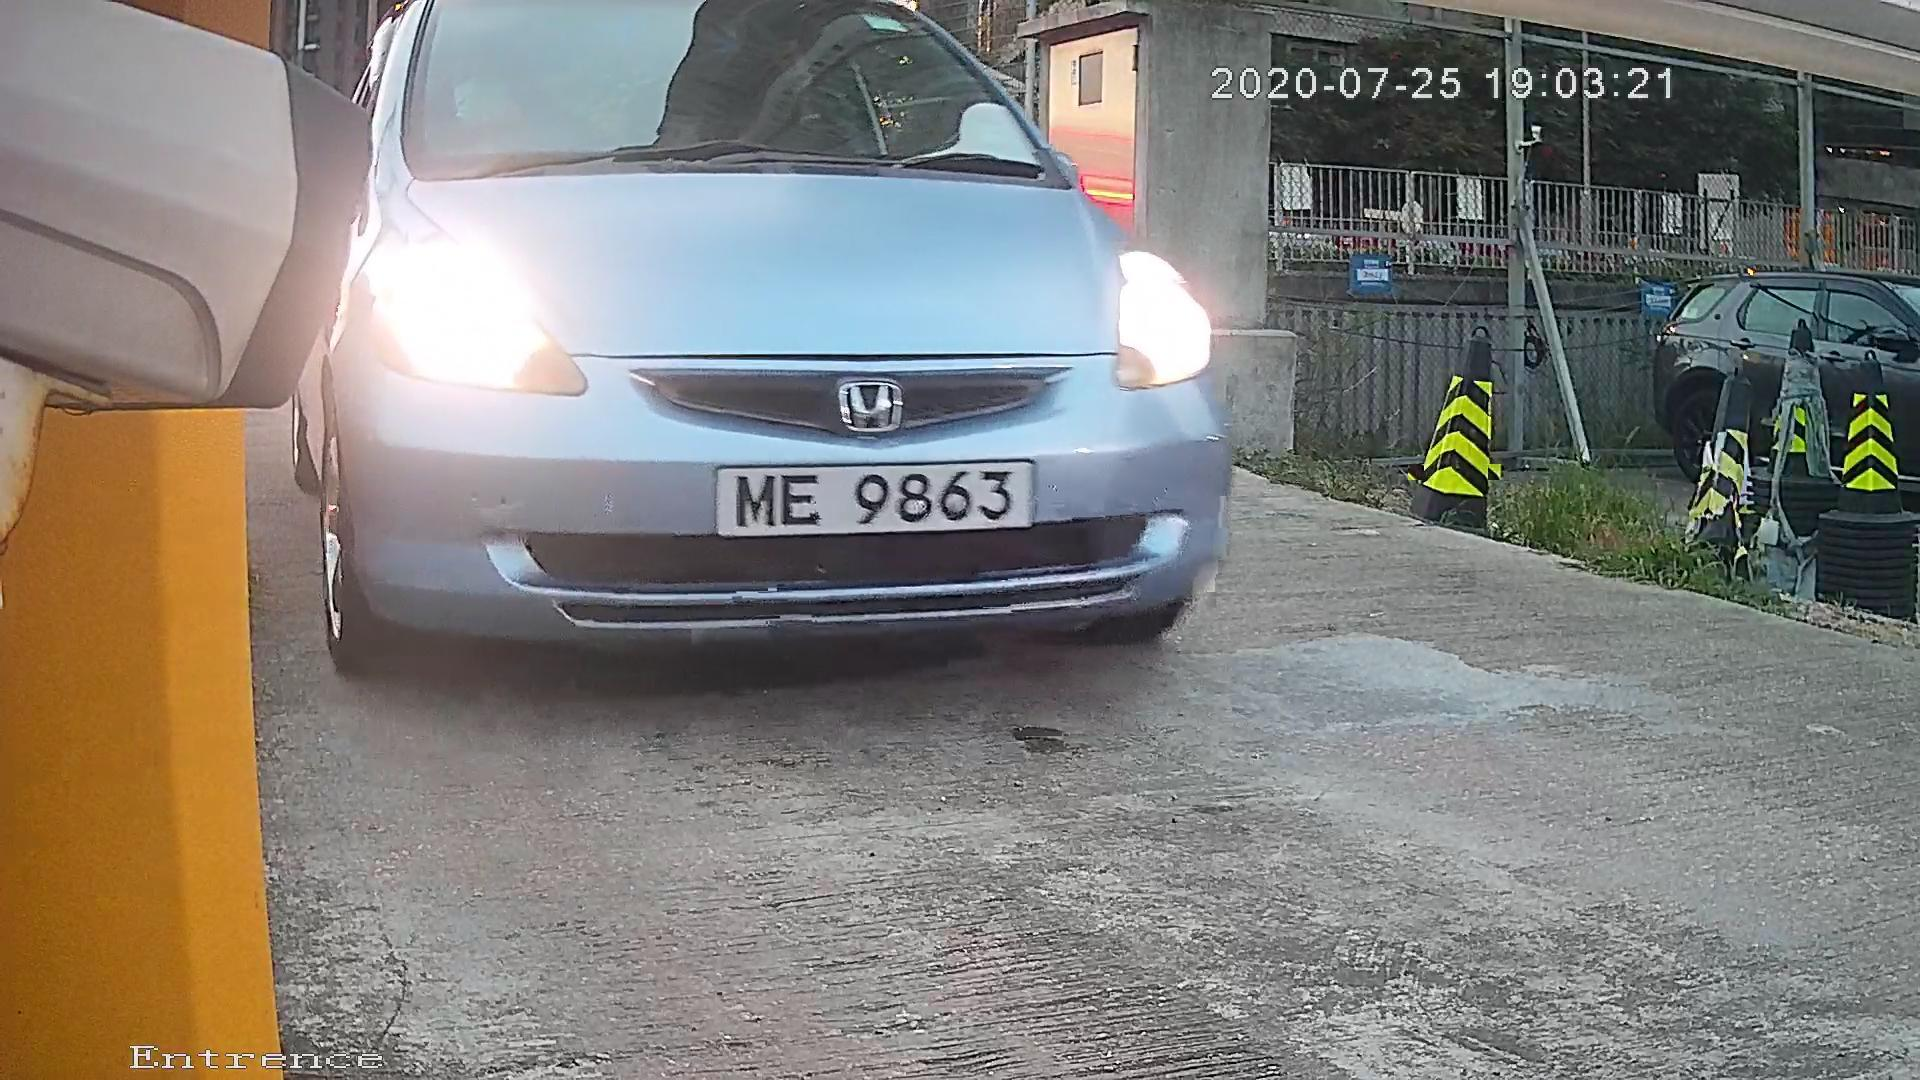privatecar: (276, 15, 1329, 666)
